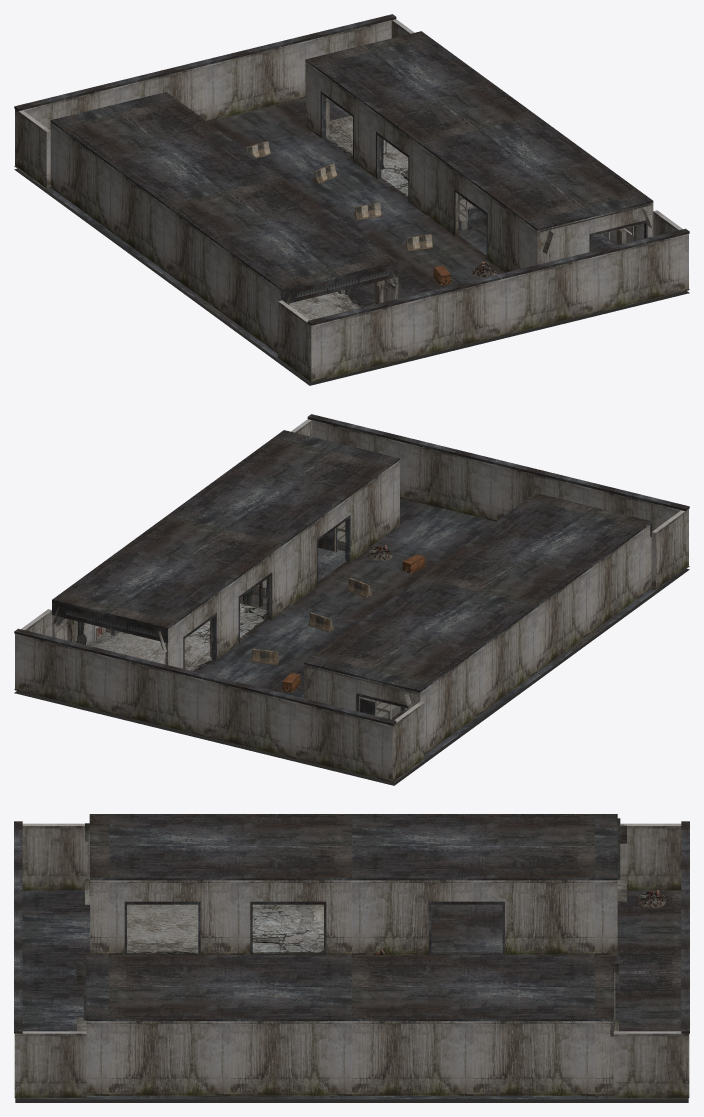
Rendered from industrial_complex.glb.
3 renders of one model, top to bottom at view 1: azimuth 30°, elevation 25°; view 2: azimuth 150°, elevation 25°; view 3: azimuth 270°, elevation 25°, orthographic. The views are drawn at different scales.
Parts seen in each view (by area): view 1: NaveRoofCap, NaveRoofCap_East, Perimeter_Wall_South, Courtyard_Ground_Slab, NaveOuterWallSkin, Perimeter_Wall_North, NavePatioPier_2_East, NavePatioPier_3_East, Perimeter_Cap_South, Perimeter_Cap_North, Perimeter_Flank_SW, Perimeter_Flank_NW (+12 smaller); view 2: NaveRoofCap, NaveRoofCap_East, Perimeter_Wall_North, Courtyard_Ground_Slab, NaveOuterWallSkin, Perimeter_Wall_South, NavePatioPier_3_East, Plane_Material.001_0_East, NavePatioPier_2_East, Perimeter_Cap_North, Perimeter_Cap_South, Perimeter_Flank_SW (+12 smaller); view 3: NaveOuterWallSkin_East, NaveRoofCap, NaveRoofCap_East, Courtyard_Ground_Slab, NavePatioPier_3, NavePatioPier_2, Plane_Material.001_0, Perimeter_Flank_NE, Perimeter_Flank_SE, Perimeter_Flank_SW, Perimeter_Flank_NW, NavePatioPier_1 (+8 smaller).
Part boxes in pixels (x1,y1,x2,y2): NaveRoofCap: [50, 92, 398, 291]; NaveRoofCap_East: [305, 31, 653, 230]; Perimeter_Wall_South: [308, 234, 688, 381]; Courtyard_Ground_Slab: [14, 98, 689, 385]; NaveOuterWallSkin: [50, 122, 282, 353]; Perimeter_Wall_North: [15, 20, 391, 167]; NavePatioPier_2_East: [408, 137, 458, 236]; NavePatioPier_3_East: [487, 194, 538, 272]; Perimeter_Cap_South: [307, 228, 689, 325]; Perimeter_Cap_North: [14, 14, 396, 111]; Perimeter_Flank_SW: [278, 300, 315, 382]; Perimeter_Flank_NW: [15, 109, 50, 188]; NaveRoofCap: [304, 493, 651, 692]; NaveRoofCap_East: [52, 430, 399, 629]; Perimeter_Wall_North: [15, 634, 395, 781]; Courtyard_Ground_Slab: [14, 498, 689, 785]; NaveOuterWallSkin: [417, 525, 651, 754]; Perimeter_Wall_South: [312, 420, 688, 558]; NavePatioPier_3_East: [346, 461, 399, 561]; Plane_Material.001_0_East: [87, 603, 267, 671]; NavePatioPier_2_East: [268, 520, 317, 619]; Perimeter_Cap_North: [14, 628, 396, 725]; Perimeter_Cap_South: [307, 414, 689, 511]; Perimeter_Flank_SW: [651, 509, 688, 589]; NaveOuterWallSkin_East: [86, 1021, 613, 1095]; NaveRoofCap: [89, 814, 617, 880]; NaveRoofCap_East: [86, 955, 614, 1021]; Courtyard_Ground_Slab: [15, 890, 688, 1102]; NavePatioPier_3: [502, 880, 617, 955]; NavePatioPier_2: [324, 880, 431, 954]; Plane_Material.001_0: [127, 904, 323, 953]; Perimeter_Flank_NE: [613, 1031, 689, 1098]; Perimeter_Flank_SE: [14, 1031, 86, 1098]; Perimeter_Flank_SW: [22, 823, 89, 890]; Perimeter_Flank_NW: [620, 823, 681, 890]; NavePatioPier_1: [198, 880, 252, 954].
Size of the model in its own units: 29.4 by 5.23 by 39.76.
15 materials, 15 textured.
